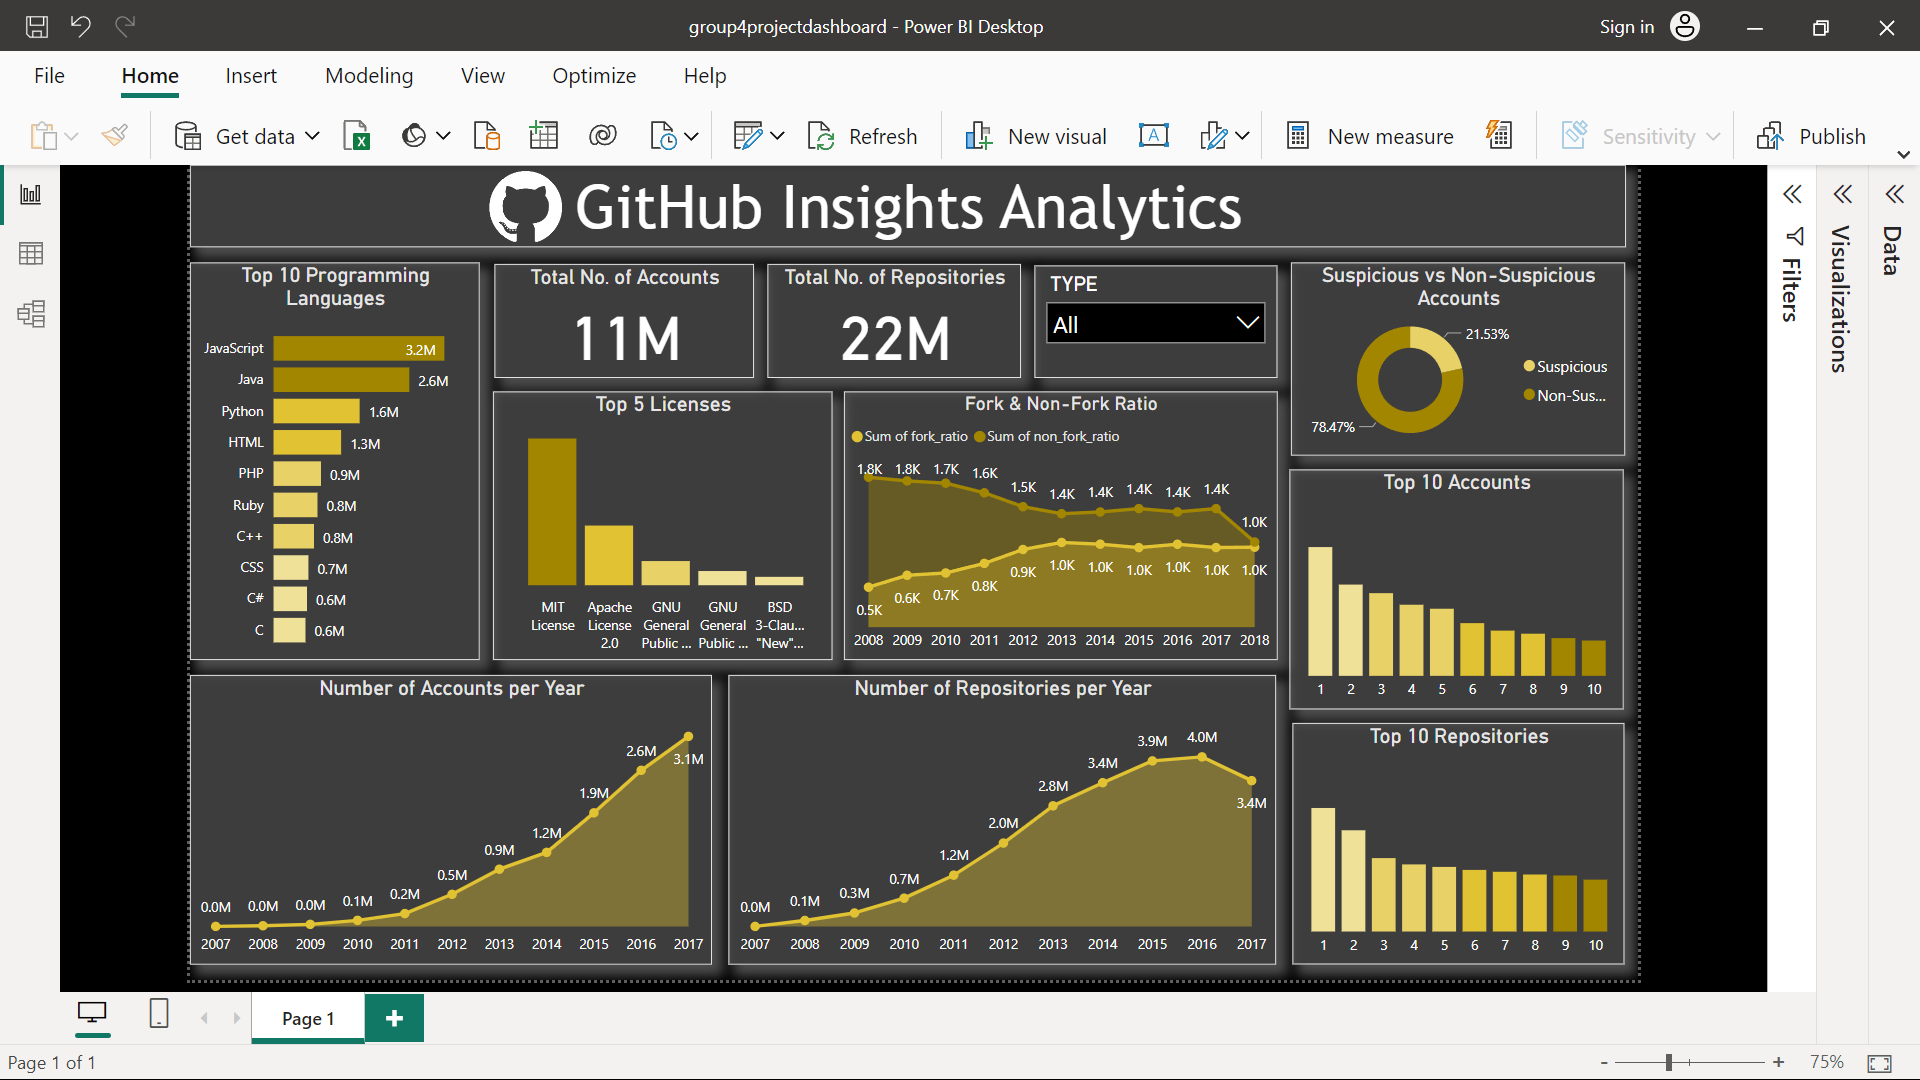

The page's visual inventory and layout, read from the dashboard file:
{"tool":"powerbi","page":{"name":"Visualisation","canvas":[1280,720],"ordinal":0},"visuals":[{"type":"slicer","fields":{"Values":["count_of_id_by_year_and_month.type"]},"box":[959.2,84.7,304.1,96.8],"z":0},{"type":"card","title":"No of Accounts","fields":{"Values":["Sum(count_of_id_by_year_and_month.count)"]},"box":[228.3,86.7,305,95],"z":1000},{"type":"clusteredBarChart","title":"Top 10 Programming Languages","fields":{"Category":["count_of_language.language"],"Y":["Sum(count_of_language.id_count)"]},"box":[0,87.1,217.1,342.9],"z":2000},{"type":"clusteredColumnChart","title":"Top 5 Licenses","fields":{"Category":["license_view.license"],"Y":["Sum(license_view.no. of users)"]},"box":[228.3,188.3,305,241.7],"z":3000},{"type":"card","title":"No of Repositories","fields":{"Values":["Sum(repository_creation_count_by_type.repository count)"]},"box":[552.2,84.7,396.4,96.8],"z":4000},{"type":"clusteredColumnChart","title":"No of Accounts per Year","fields":{"Y":["Sum(count_of_id_by_year_and_month.count)"],"Category":["count_of_id_by_year_and_month.year_wise","count_of_id_by_year_and_month.month_wise"]},"box":[0,441.7,533.3,265],"z":5000},{"type":"areaChart","title":"Fork & Non-fork Ratio ","fields":{"Y":["Sum(repoforkratio.fork_ratio)","Sum(repoforkratio.non_fork_ratio)"],"Category":["repoforkratio.year"]},"box":[550.7,441.8,397.9,264.8],"z":6000},{"type":"donutChart","title":"Suspicious VS Non Suspicious Accounts","fields":{"Y":["Sum(view_suspicious_counts_by_year_month.suspicious_count)","Sum(view_suspicious_counts_by_year_month.non_suspicious_count)"]},"box":[550.7,187.6,397.9,242.1],"z":7000},{"type":"textbox","box":[0,0,1263.3,73.3],"z":8000},{"type":"clusteredColumnChart","title":"Top 10 Accounts","fields":{"Y":["Sum(final_top_10_accounts.score)"],"Category":["final_top_10_accounts.score_rank"]},"box":[959.2,187.6,304.1,242.1],"z":9000},{"type":"clusteredColumnChart","title":"Top 10 Repositories","fields":{"Y":["Sum(final_top_10_repos.score)"],"Category":["final_top_10_repos.score_rank"]},"box":[959.2,441.8,304.1,264.8],"z":12001},{"type":"image","box":[228.3,0,105,73.3],"z":12002}]}

Visuals, with their boxes on the page's 1280x720 design canvas (x1, y1, x2, y2). These are canvas units, not pixel positions in the 1920x1080 screenshot, which may show the page scaled, cropped or inside an application window:
slicer - count_of_id_by_year_and_month.type: [959,85,1263,182]
"No of Accounts" card: [228,87,533,182]
"Top 10 Programming Languages" clusteredBarChart: [0,87,217,430]
"Top 5 Licenses" clusteredColumnChart: [228,188,533,430]
"No of Repositories" card: [552,85,949,182]
"No of Accounts per Year" clusteredColumnChart: [0,442,533,707]
"Fork & Non-fork Ratio " areaChart: [551,442,949,707]
"Suspicious VS Non Suspicious Accounts" donutChart: [551,188,949,430]
textbox: [0,0,1263,73]
"Top 10 Accounts" clusteredColumnChart: [959,188,1263,430]
"Top 10 Repositories" clusteredColumnChart: [959,442,1263,707]
image: [228,0,333,73]
